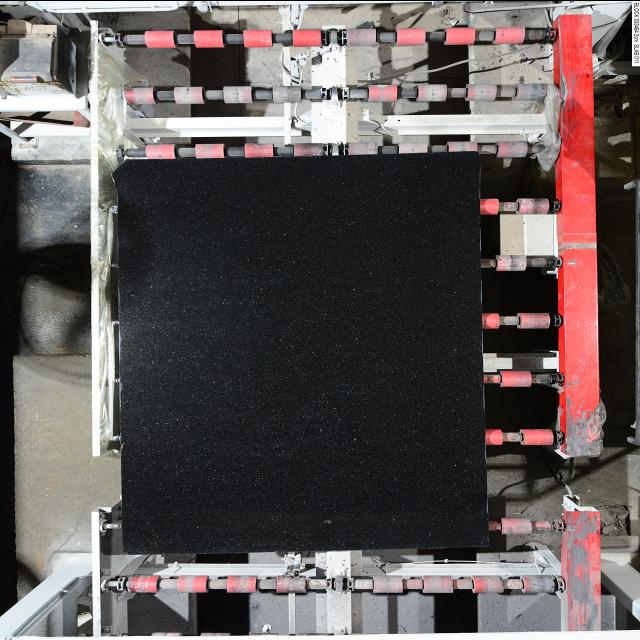chapa: (113, 151, 488, 551)
